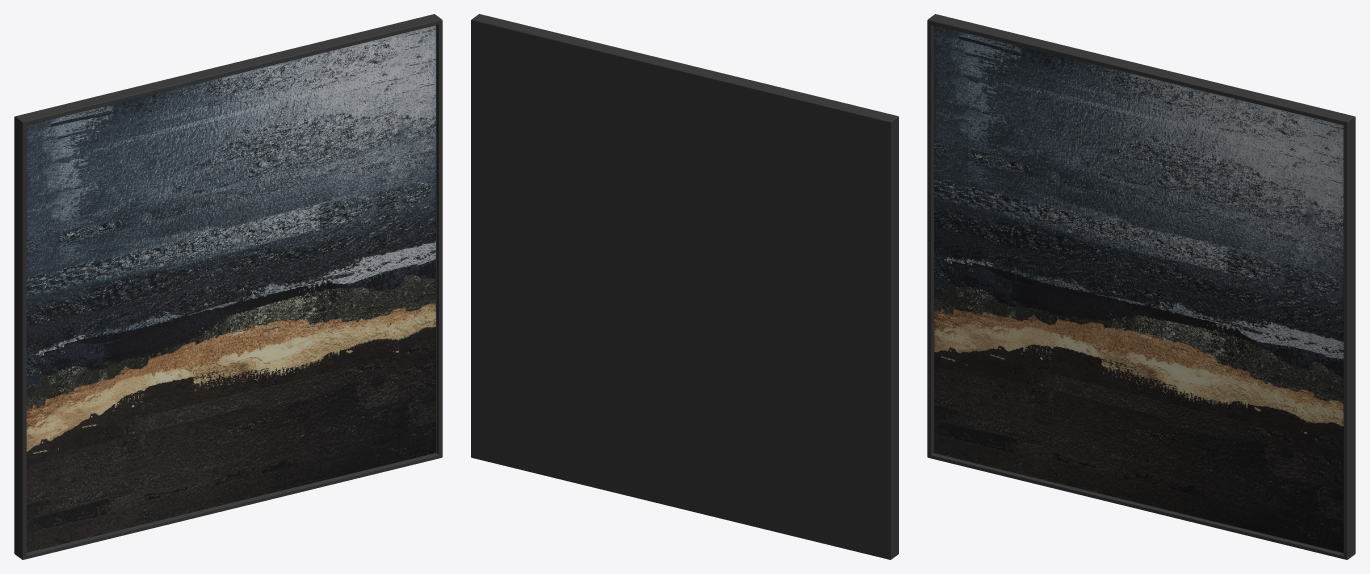
3 views of the same model, side by side, from view 1: azimuth 30°, elevation 25°; view 2: azimuth 150°, elevation 25°; view 3: azimuth 330°, elevation 25° (orthographic).
Visible parts, largest first — view 1: 3DSMeshMatrix; view 2: 3DSMeshMatrix; view 3: 3DSMeshMatrix.
Part boxes in pixels (bbox=[...]): 3DSMeshMatrix: bbox=[14, 14, 442, 559]; 3DSMeshMatrix: bbox=[471, 14, 898, 559]; 3DSMeshMatrix: bbox=[927, 14, 1355, 559].
Bounding box in the file's own units: 610 × 608 × 20.23.
2 materials, 1 textured.
